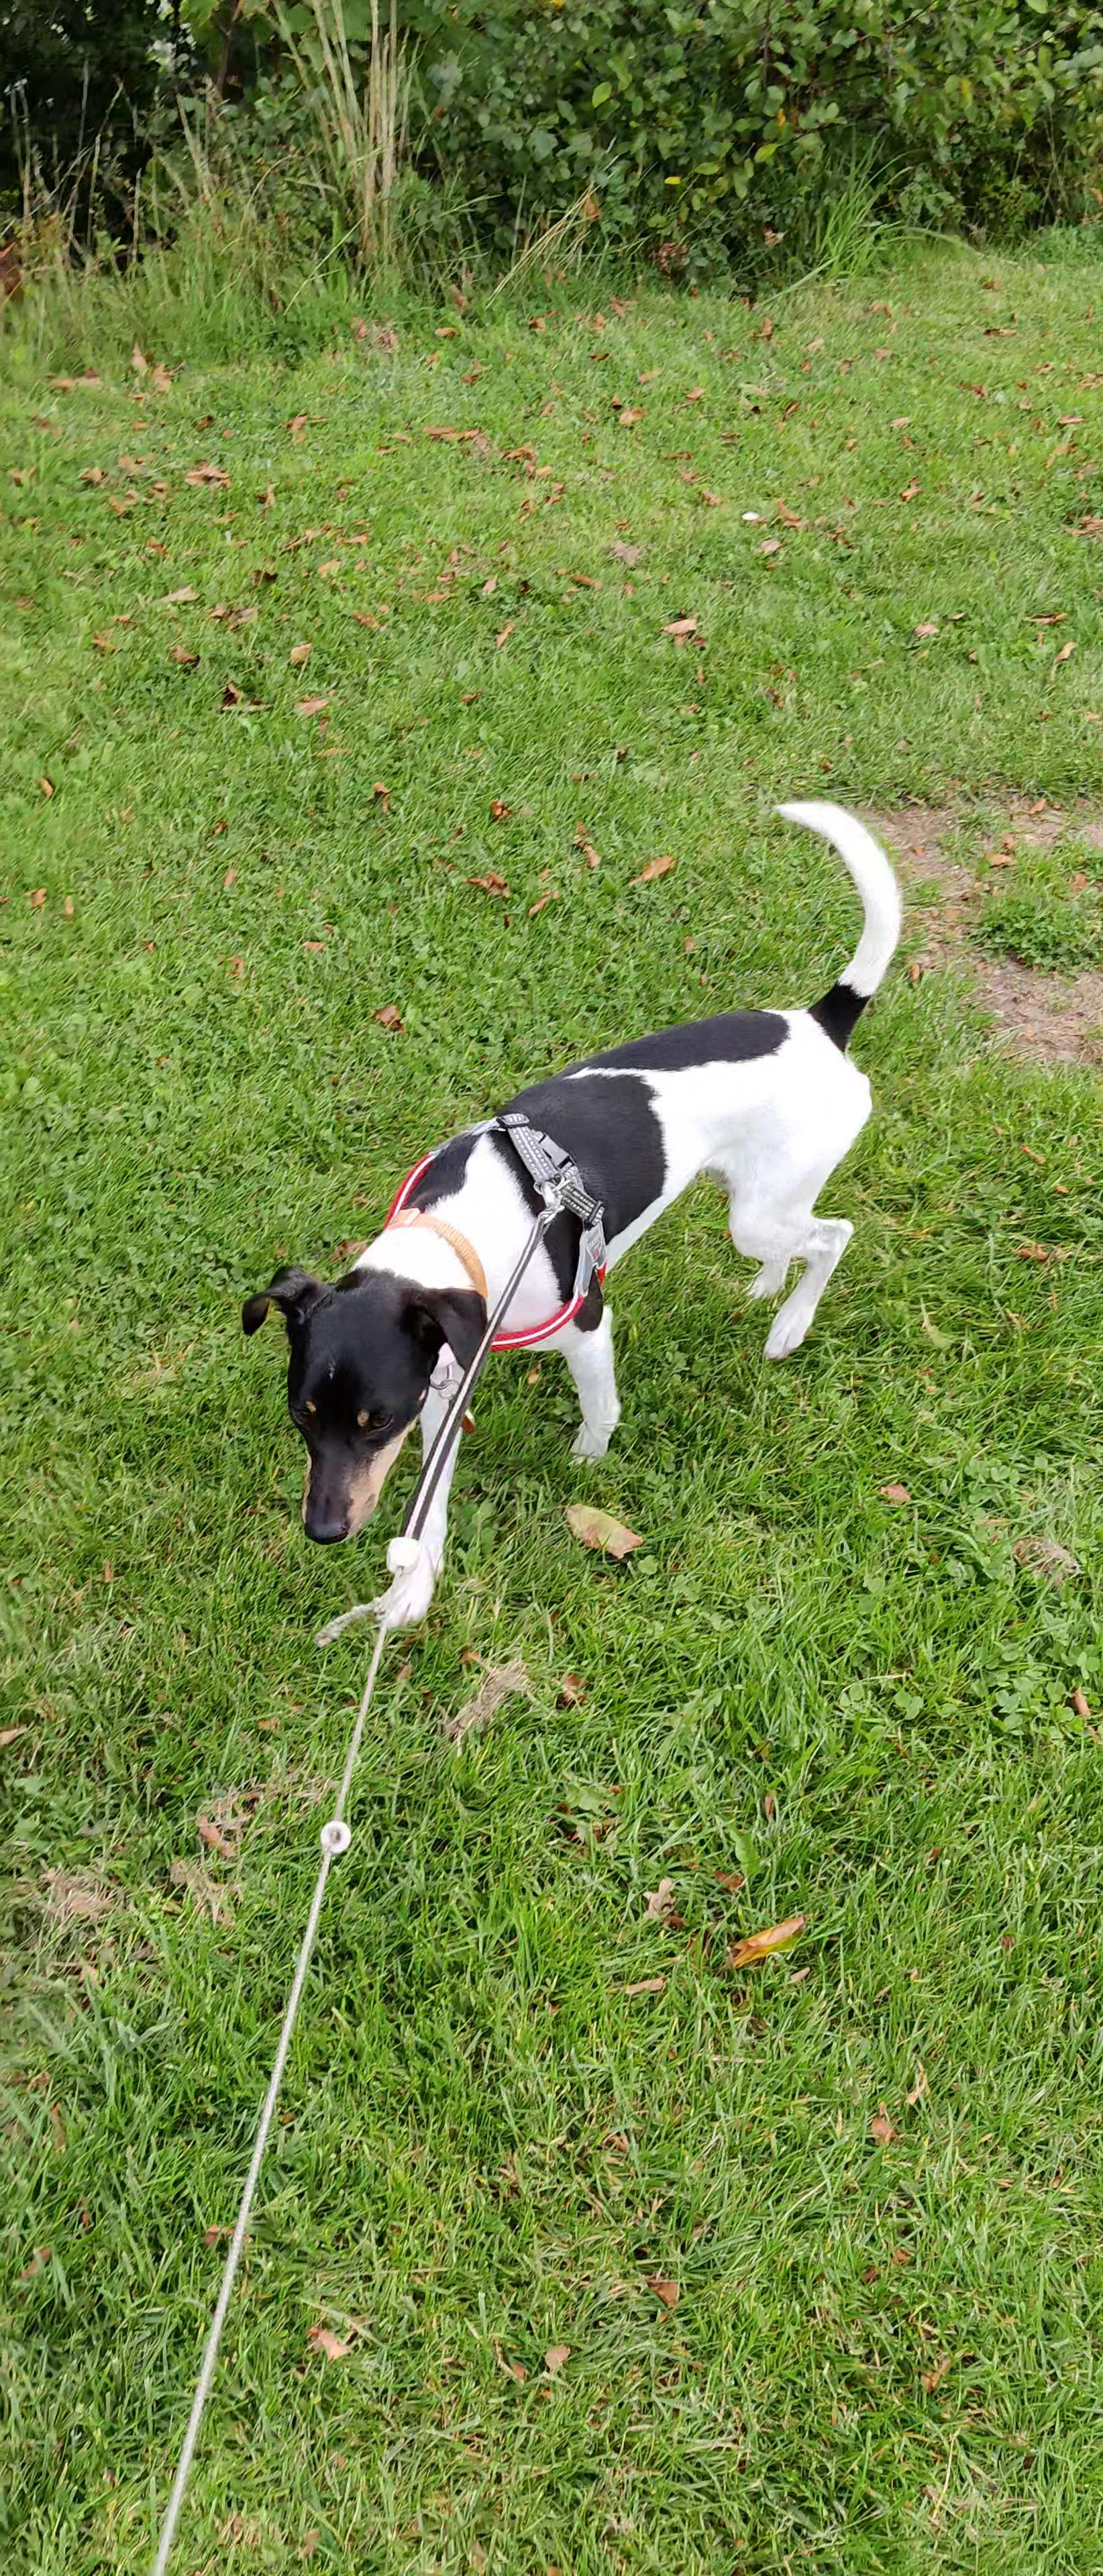Dog: (233, 779, 921, 1661)
